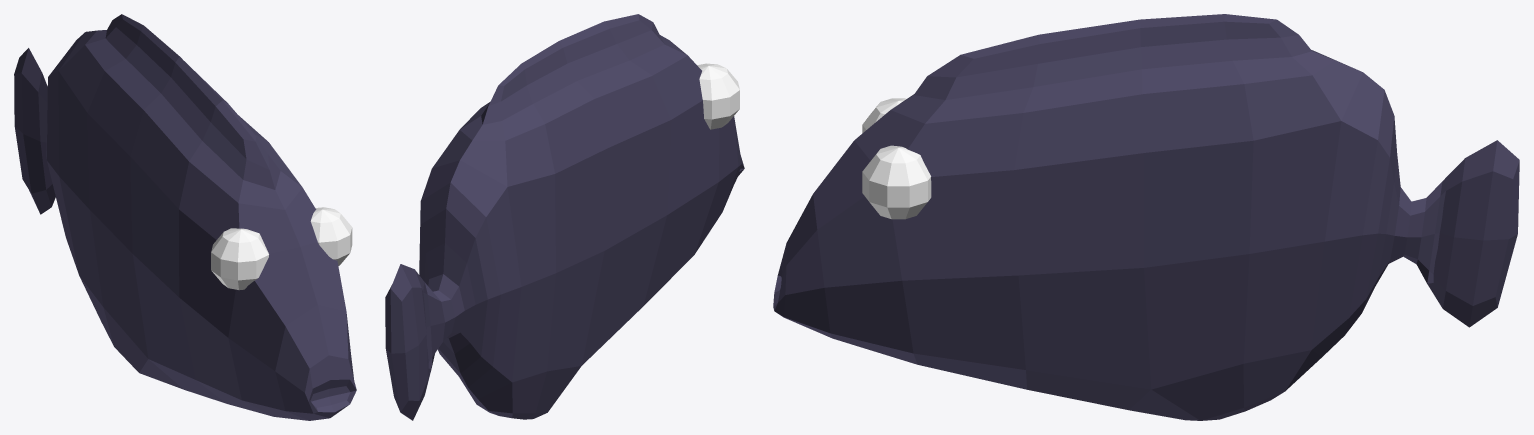
Rendered from fish.fbx.
3 views of the same model, side by side, from view 1: azimuth 30°, elevation 25°; view 2: azimuth 150°, elevation 25°; view 3: azimuth 270°, elevation 25° (orthographic). The views are drawn at different scales.
Parts seen in each view (by area): view 1: Сфера; view 2: Сфера; view 3: Сфера.
Part boxes in pixels (x1=…): Сфера: x1=14, y1=14, x2=356, y2=420; Сфера: x1=385, y1=14, x2=744, y2=420; Сфера: x1=773, y1=14, x2=1519, y2=420.
Bounding box in the file's own units: 118 × 294 × 489.
